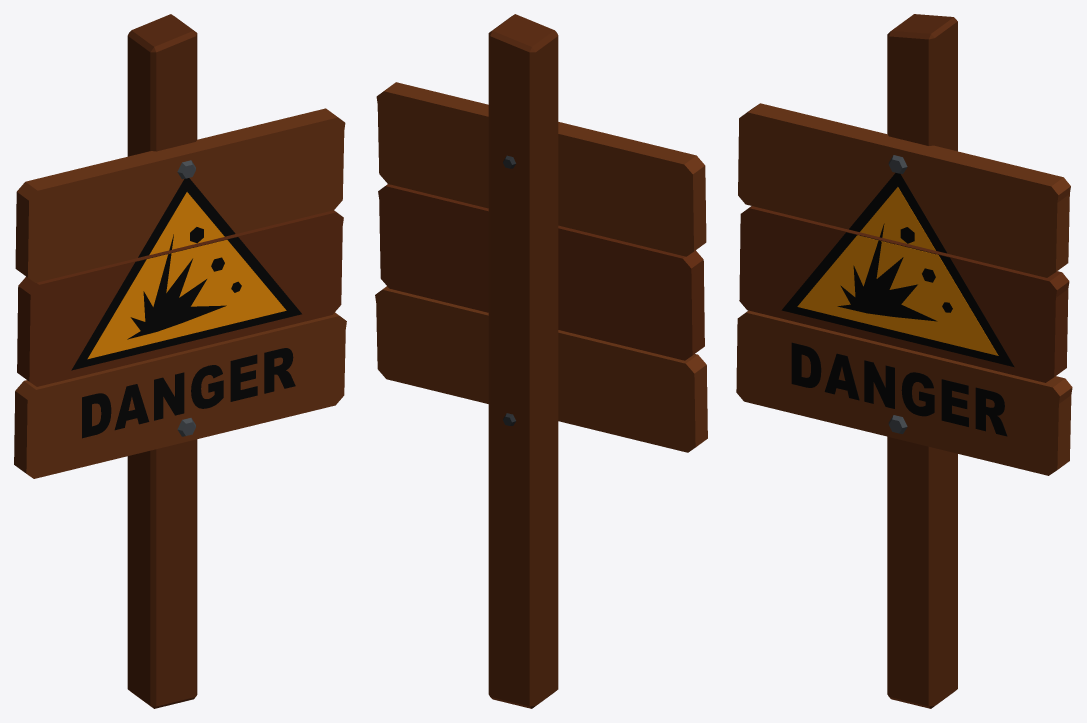
The model's file is Mine Warning Sign.obj.
The picture shows the model from 3 angles, left to right: view 1: azimuth 30°, elevation 25°; view 2: azimuth 150°, elevation 25°; view 3: azimuth 330°, elevation 25°; orthographic projection.
Visible parts, largest first — view 1: Mine_Warning_Sign.Static; view 2: Mine_Warning_Sign.Static; view 3: Mine_Warning_Sign.Static.
Boxes of the visible parts, x1,y1,x2,y2 form: Mine_Warning_Sign.Static: [14, 14, 346, 708]; Mine_Warning_Sign.Static: [375, 14, 707, 708]; Mine_Warning_Sign.Static: [736, 14, 1072, 708].
Bounding box in the file's own units: 0.852 × 1.7 × 0.197.
